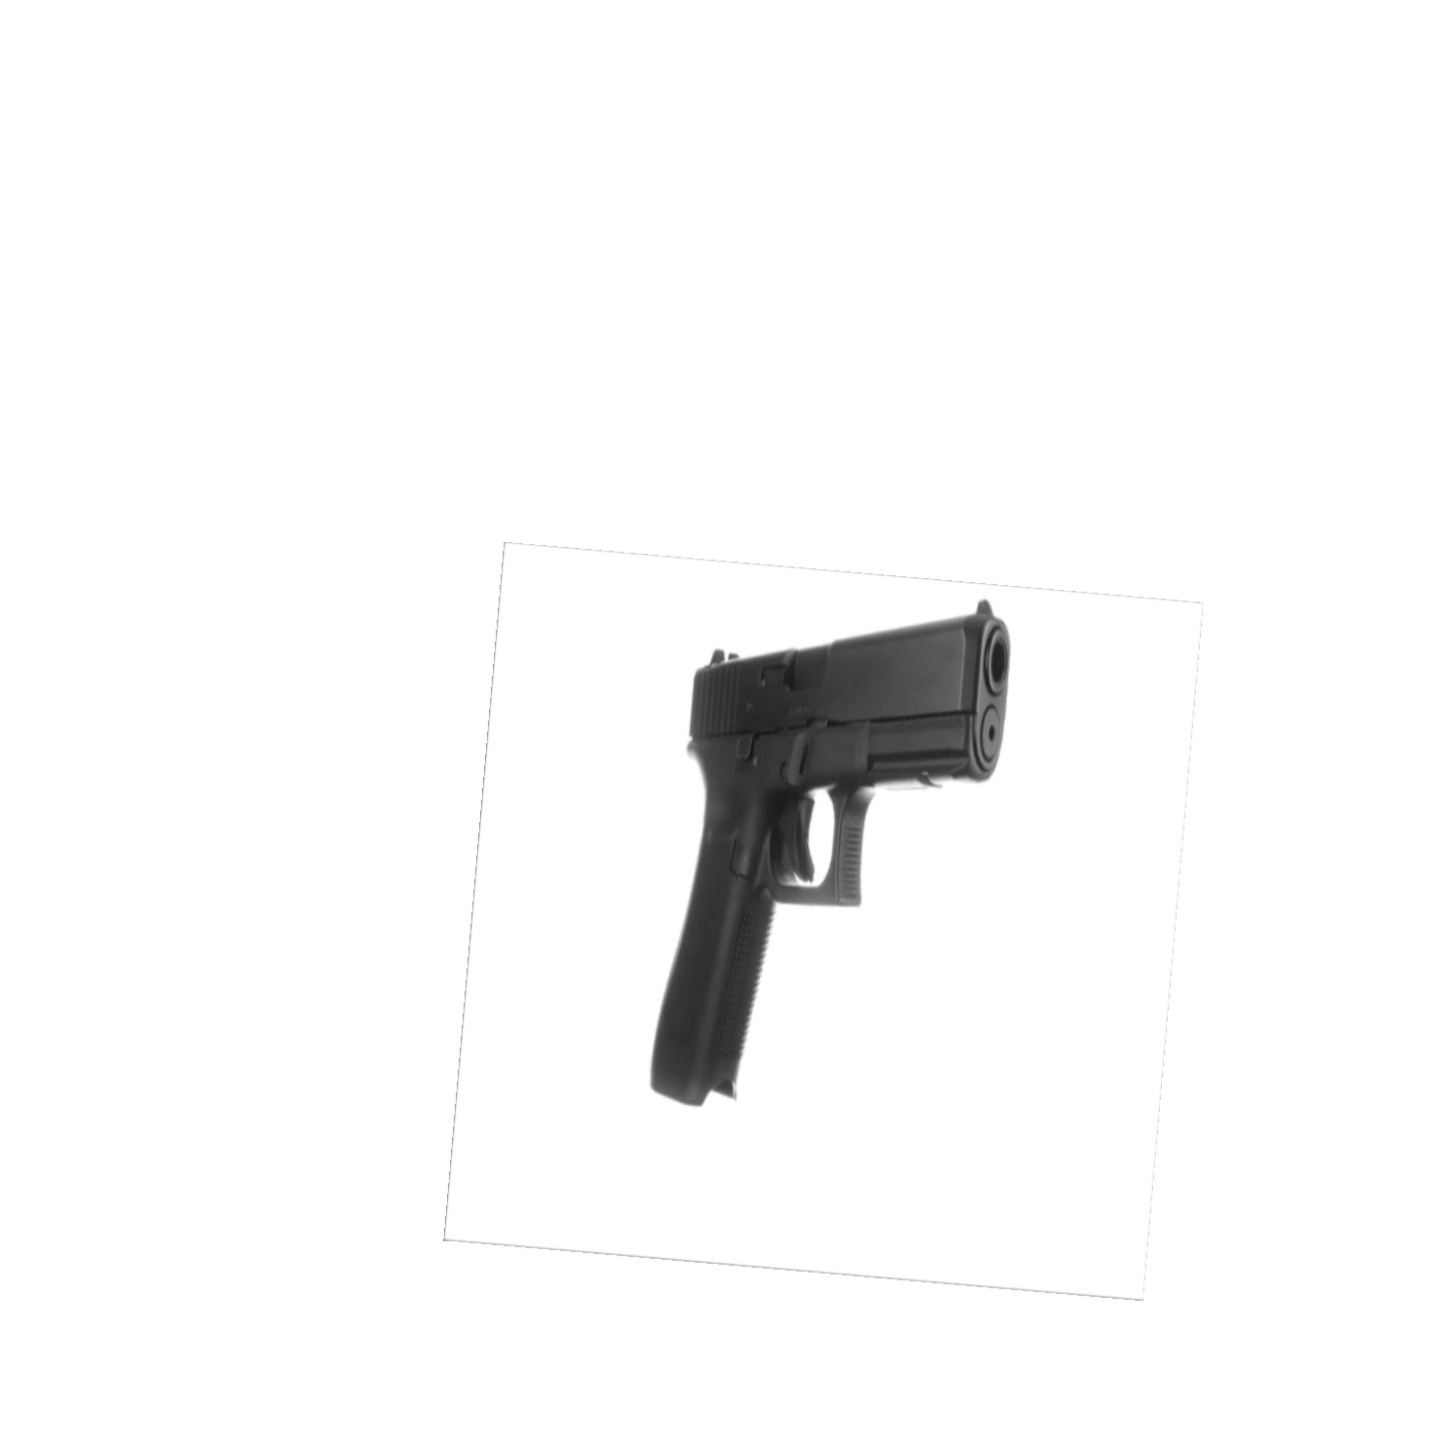gun: (648, 595, 1015, 1106)
